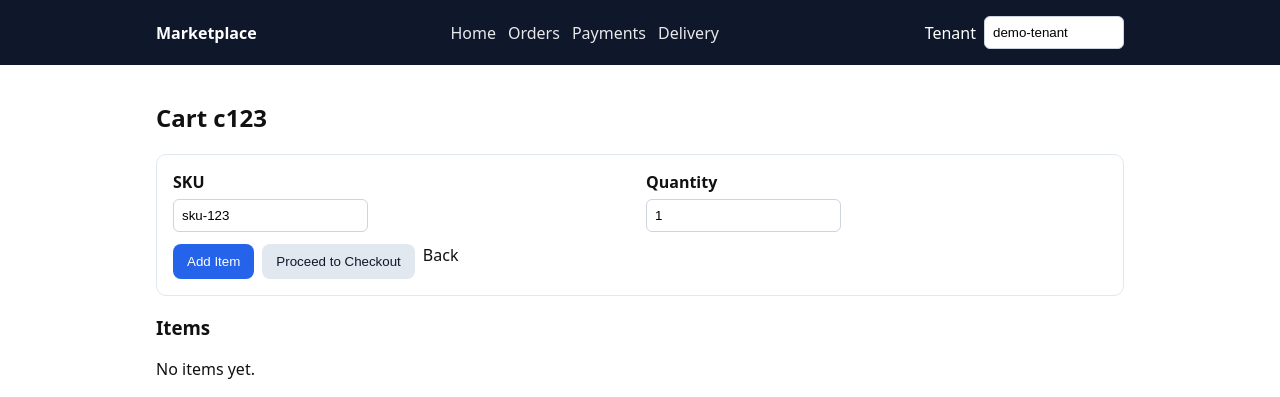
Test: CartPage › adds an item and shows in list
Click the button "Add Item": (214, 261) left=173, top=244, right=254, bottom=279
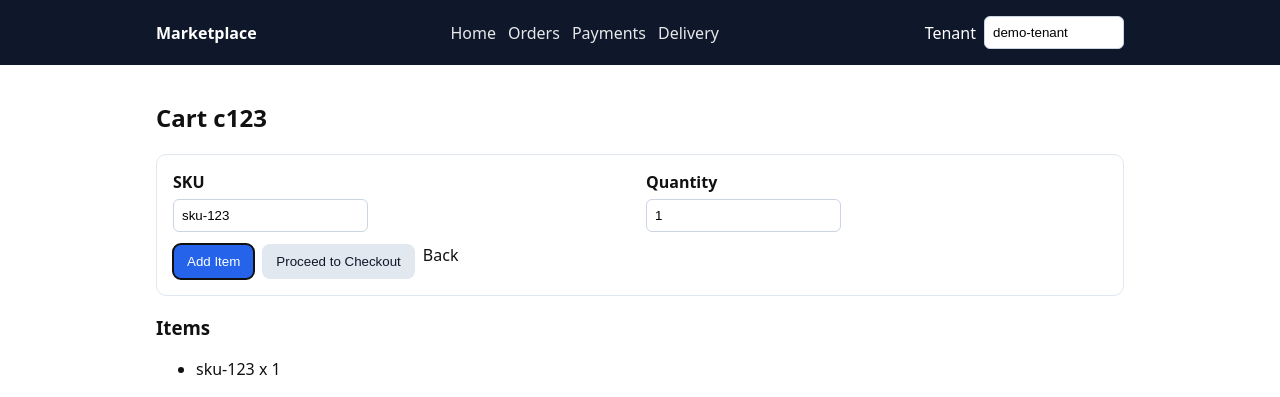
Now the list item "sku-123 x 1" is shown, box left=196, top=358, right=281, bottom=380
